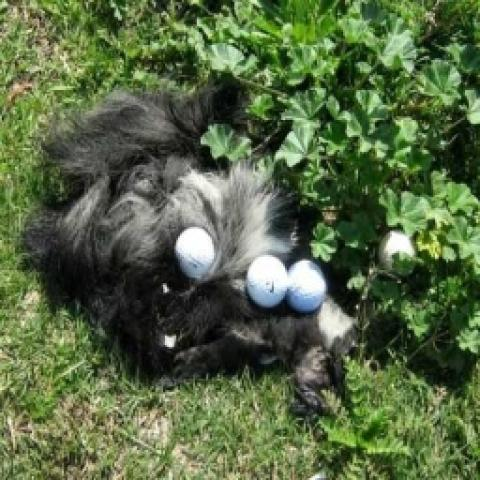small_animal: (17, 77, 362, 420)
